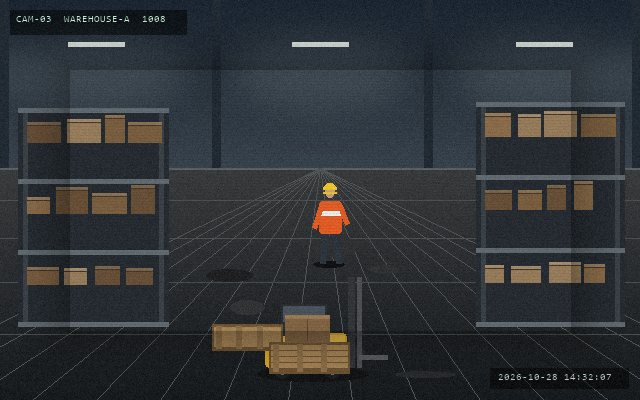forklift: (261, 275, 389, 381)
pallet: (267, 340, 351, 375), (210, 322, 284, 352)
person: (312, 181, 349, 266)
shelf: (476, 102, 624, 322), (18, 108, 168, 322)
